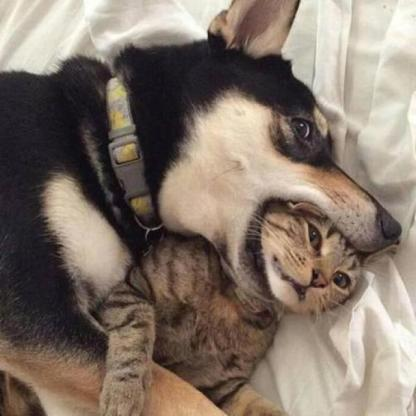cat: (116, 199, 360, 368)
dog: (6, 4, 412, 239)
